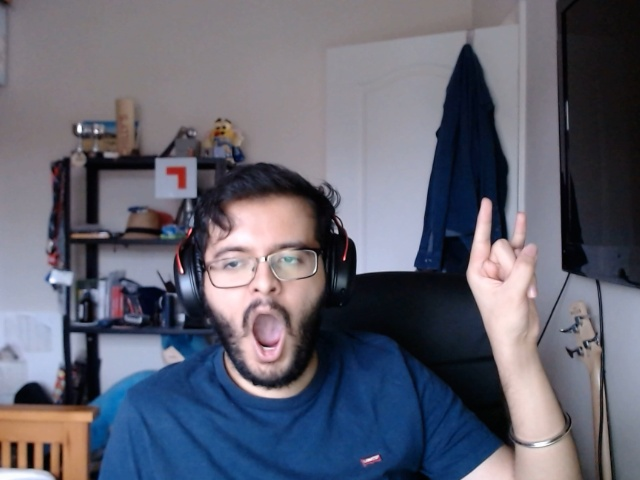Rock on: (455, 190, 542, 357)
